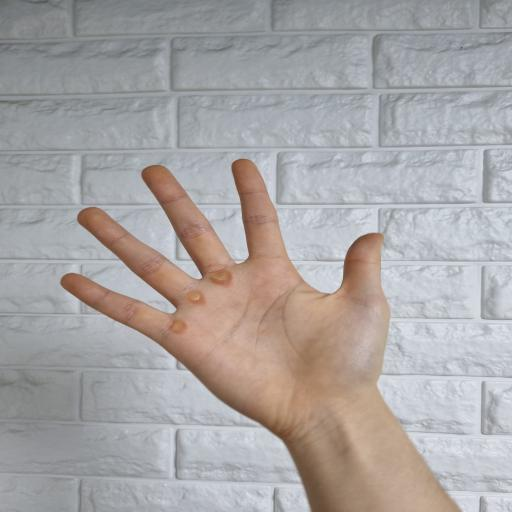Paper: (60, 156, 462, 512)
